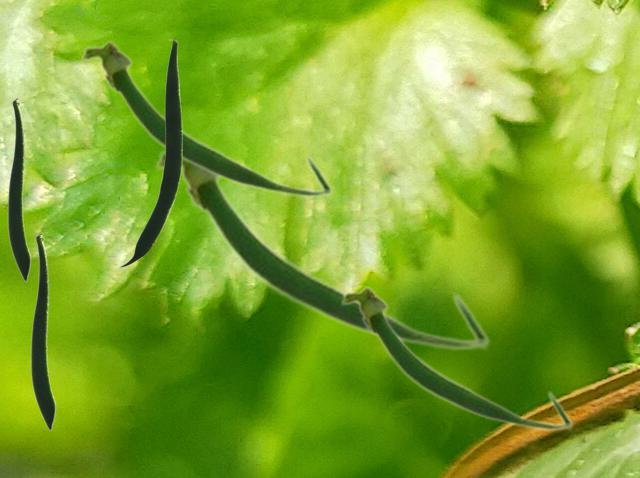french_bean: (153, 149, 490, 351), (79, 38, 333, 198), (339, 284, 573, 431), (119, 39, 181, 266), (30, 232, 55, 430), (7, 97, 30, 281)
